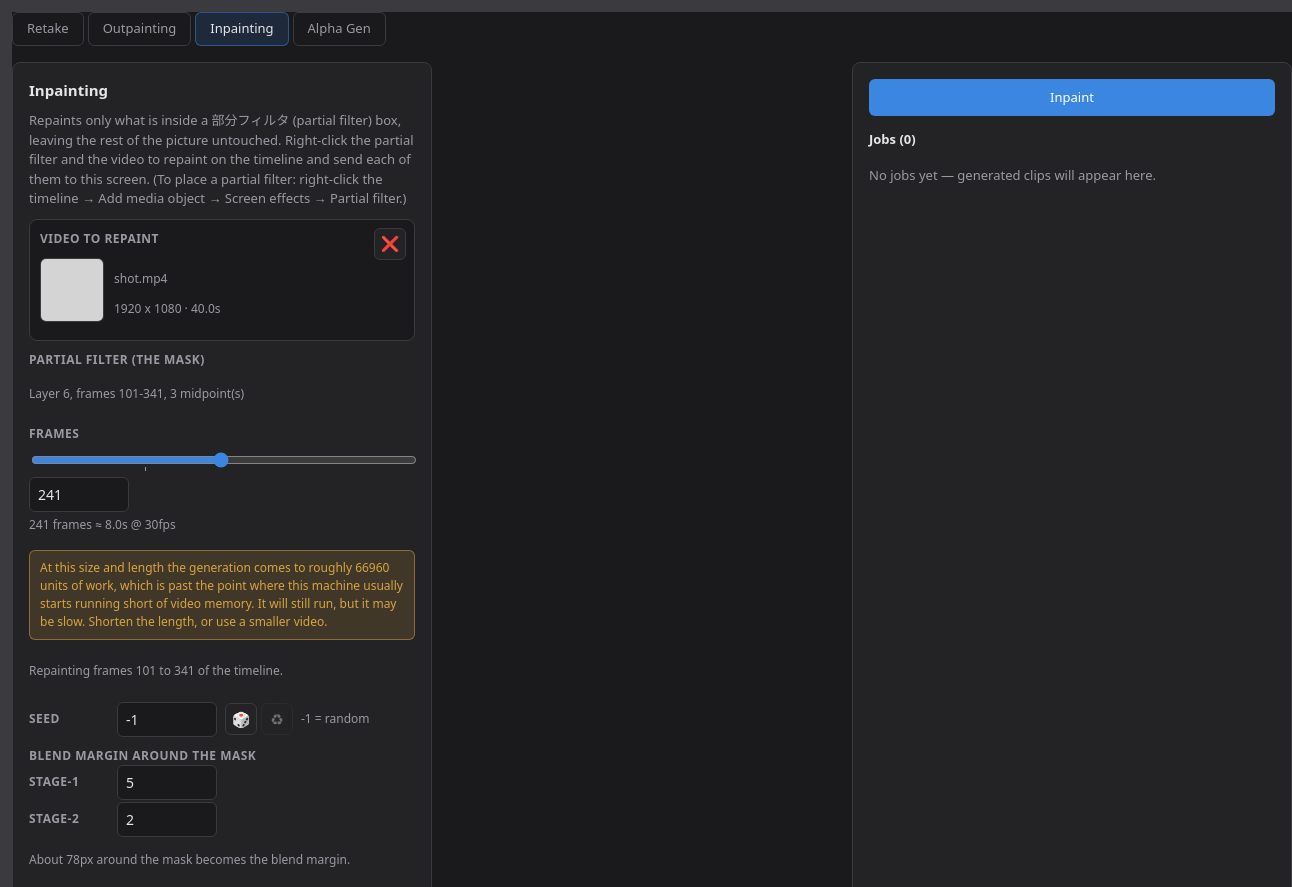
Test case: EditScreen — Inpainting パネルの中身 › 窓が部分フィルタより短ければ注意文を出す（ブロックはしない）
Step 1. Replace the text in the 1st number field with "121" → [79, 494], box [29,476,129,512]
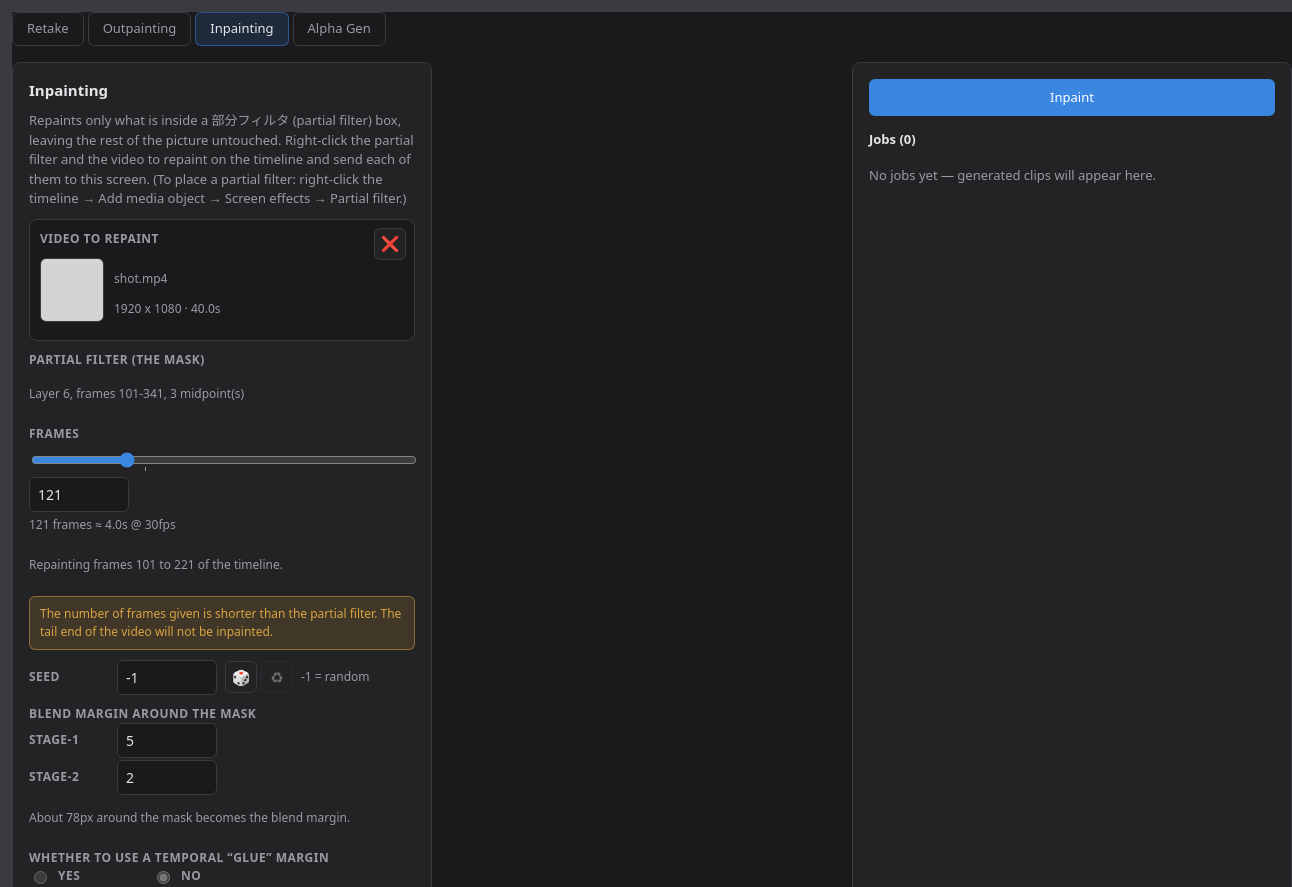
expect the button "Inpaint" is enabled: met, box [869,78,1275,116]
expect the text "The number of frames given is shorter than the partial filter. The tail end of the video will not be inpainted." is shown: met, box [40,604,401,640]
